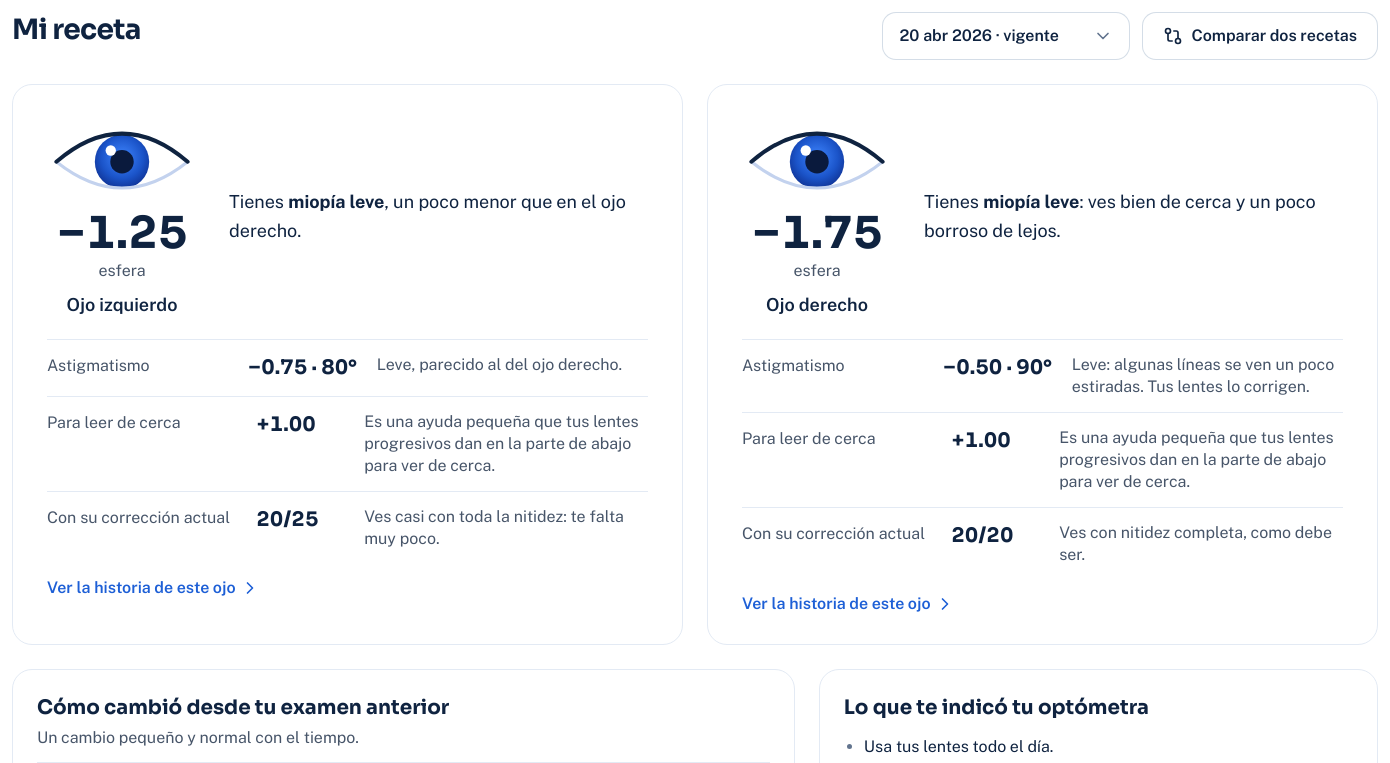
La vista completa de una receta (selector, antes → ahora, indicaciones) › al elegir otra receta cambia toda la vista: los ojos, el antes → ahora (contra la anterior a esa) y las indicaciones
Expected: the element "Ojo derecho" shows "−1.75", [752,205,882,261]
Expected: the element "Lo que te indicó tu optómetra" shows "Usa tus lentes todo el día.", [864,737,1053,756]
Click the button with aria-label "Elegir otra receta" at (1006, 36), box [882,12,1130,60]
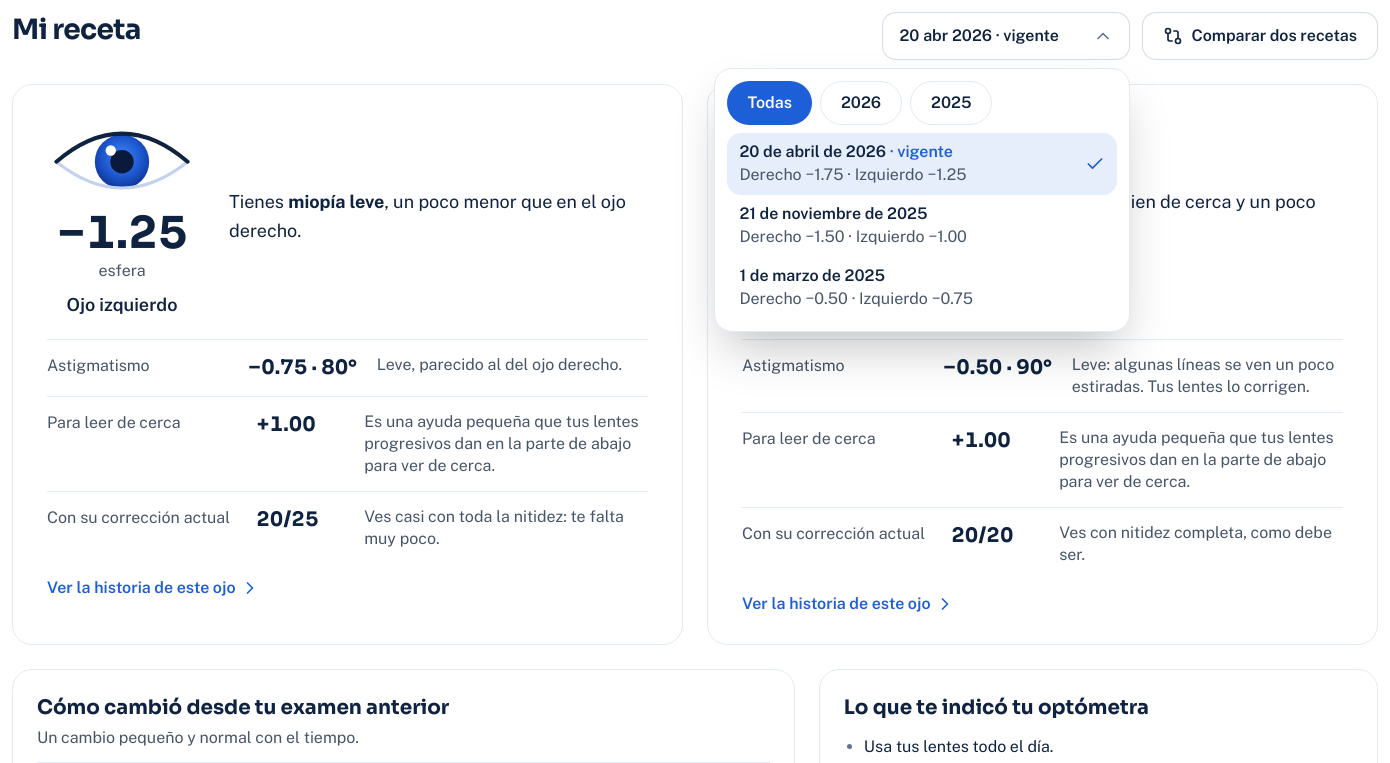
Click the option "21 de noviembre de 2025 Derecho −1.50 · Izquierdo −1.00" at (922, 226), box [728,195,1118,257]
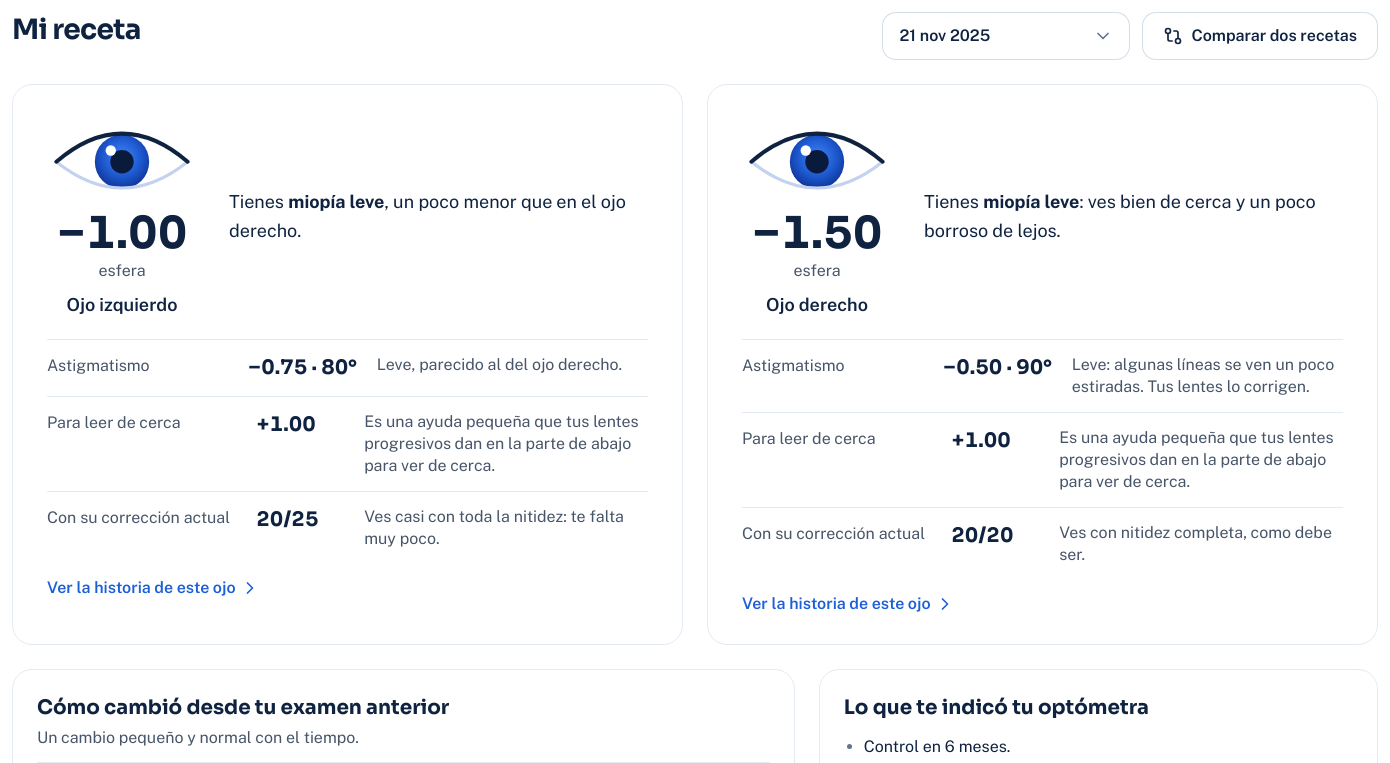
Expected: the element "Ojo derecho" shows "−1.50", [752,205,882,261]
Expected: the element "Lo que te indicó tu optómetra" shows "Control en 6 meses.", [864,737,1010,756]
# la más antigua no tiene receta anterior: no hay antes → ahora
Click the button with aria-label "Elegir otra receta" at (1006, 36), box [882,12,1130,60]
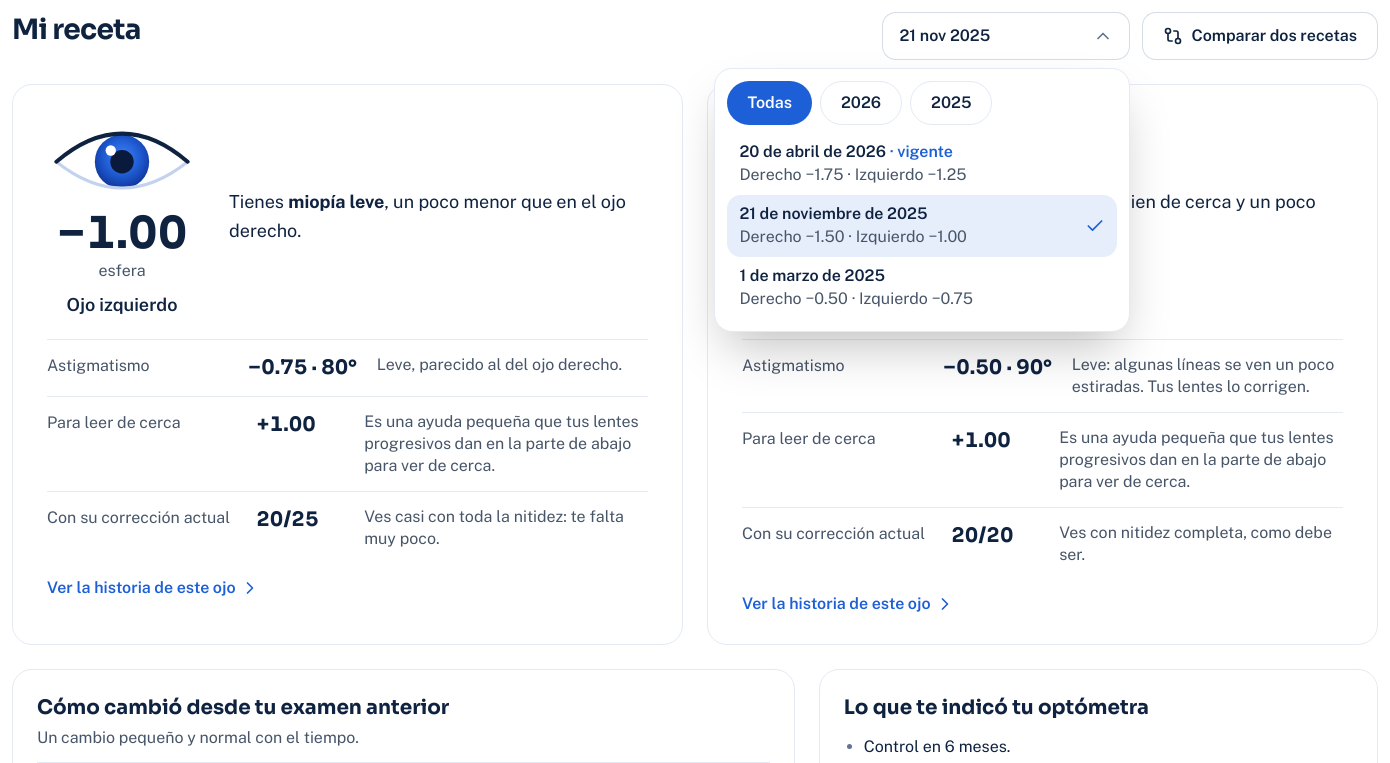
Click the option "1 de marzo de 2025 Derecho −0.50 · Izquierdo −0.75" at (922, 288), box [728,257,1118,319]
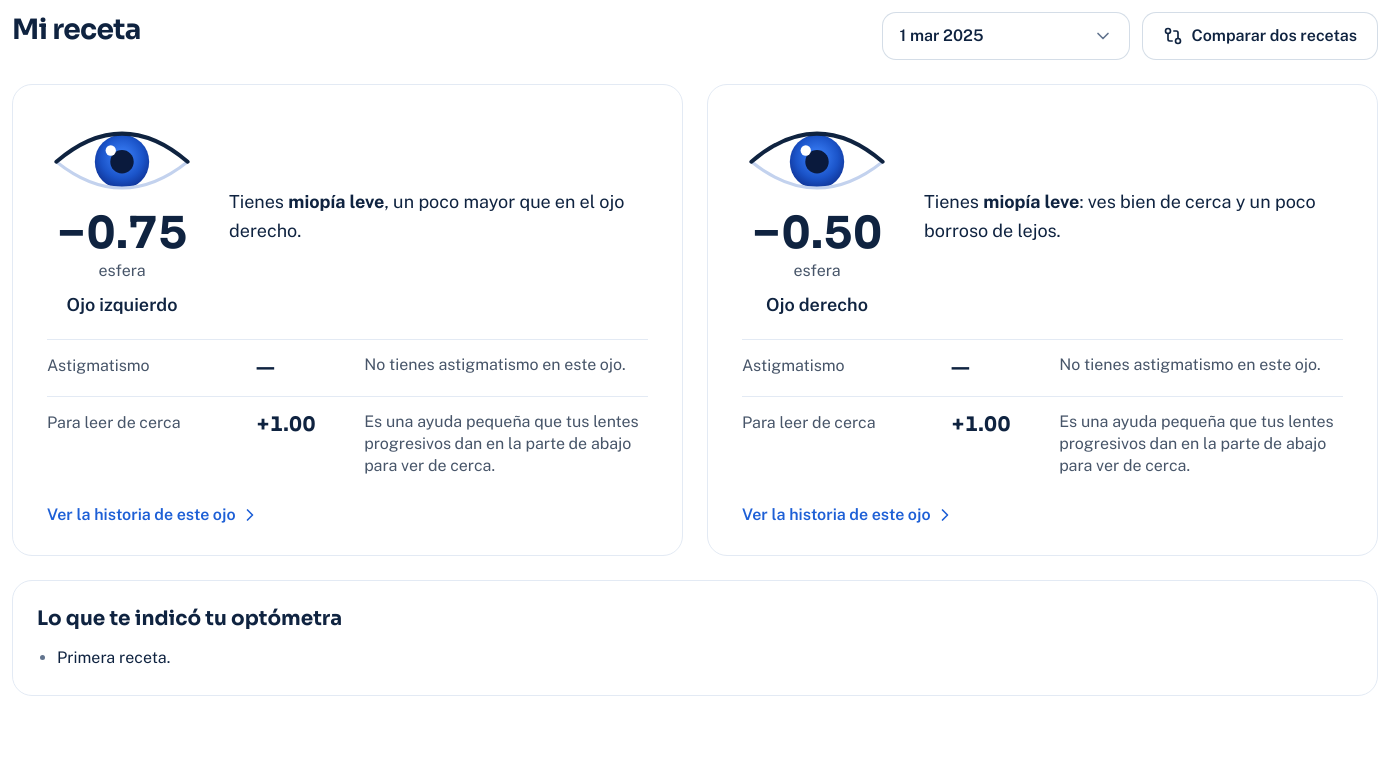
Expected: the heading "Cómo cambió" is gone
